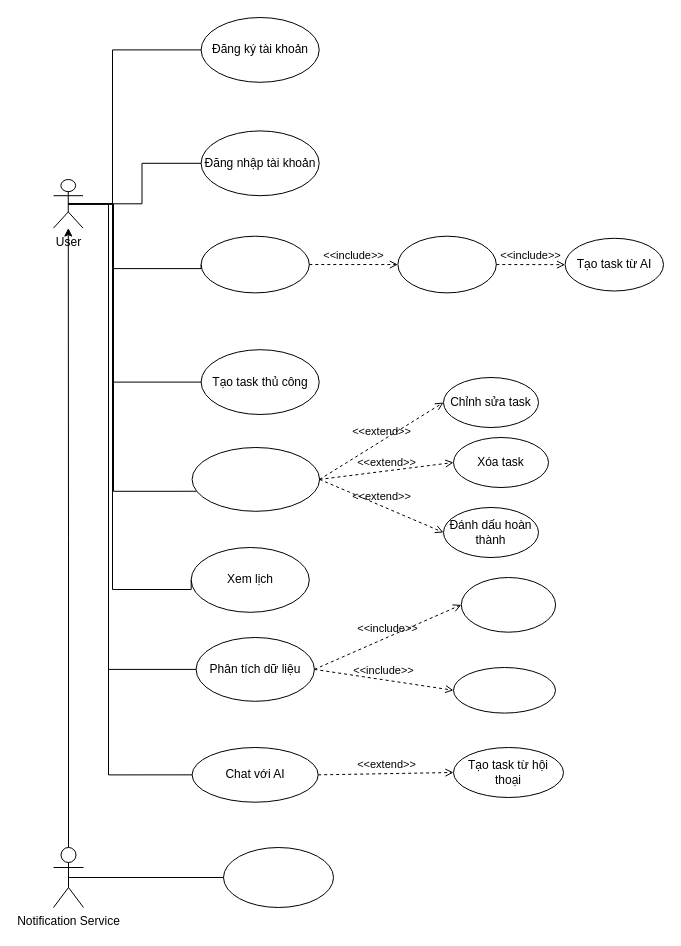
This 681x946 diagram has some shape labels left out. The centre of each missing label's shape, as x and y in pixels:
Nhận thông báo: point (278, 877)
Phân tích dữ liệu bằng AI: point (446, 264)
Thống kê công việc: point (508, 604)
Tạo báo cáo thống kê: point (504, 689)
Uploat file: point (254, 264)
Xem danh sách task: point (255, 478)
